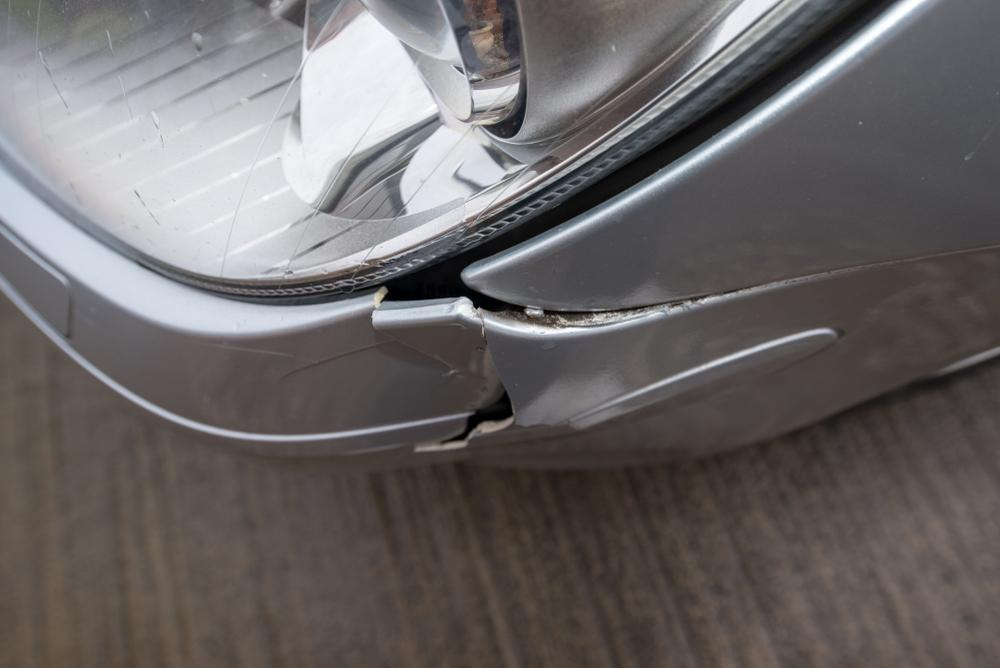crack: (428, 306, 516, 449)
